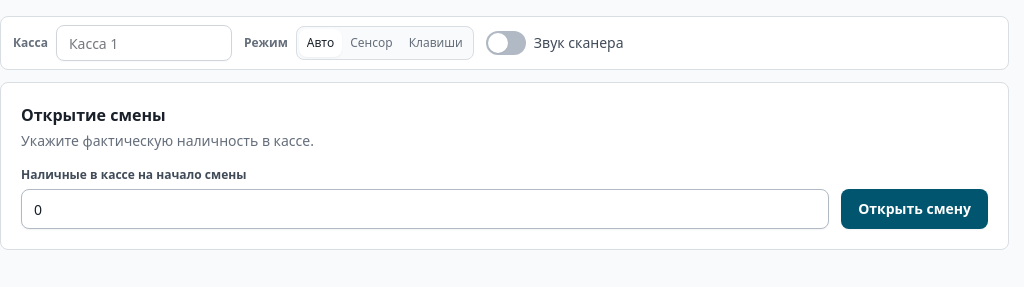
Test case: POSPage › rejects an invalid opening cash value: -1
Replace the text in the field labelled "Наличные в кассе на начало смены" with "-1". click: (425, 209)
box: [21,189,829,229]
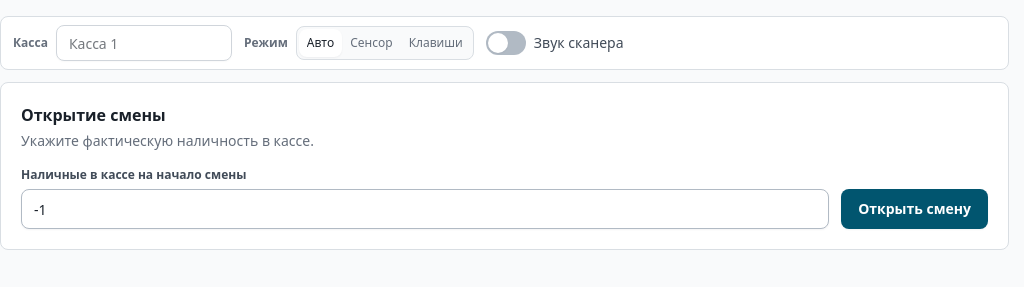
Click the button "Открыть смену". click: (915, 209)
box: [841,189,988,229]
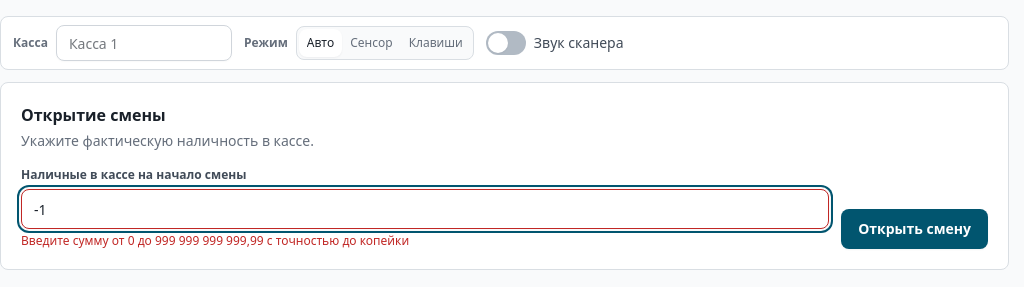
Check: the message shows "с точностью до копейки", box [21,232,409,249]
